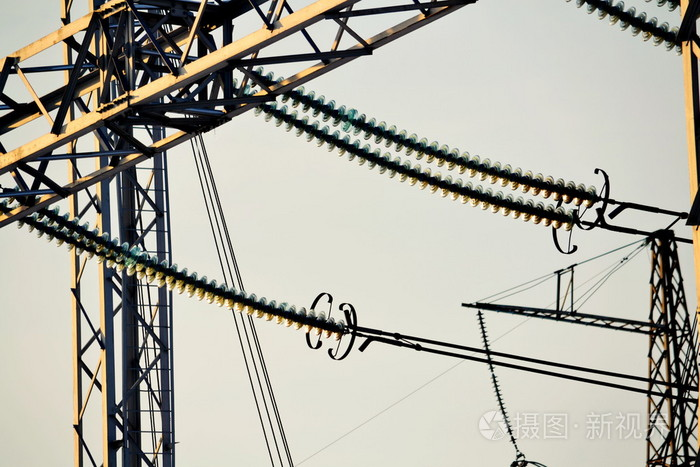insulator: (224, 66, 598, 231), (4, 186, 347, 339), (576, 1, 685, 55), (477, 309, 520, 443)
